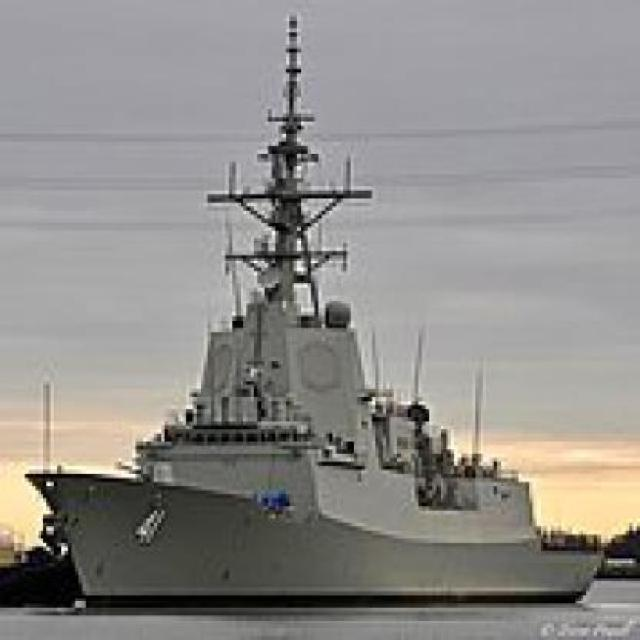warship2: (26, 13, 617, 609)
